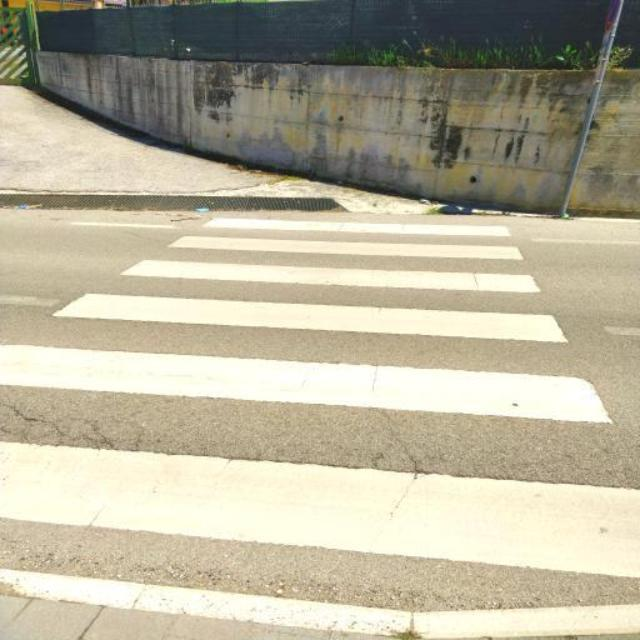sidewalk: (0, 218, 639, 578)
